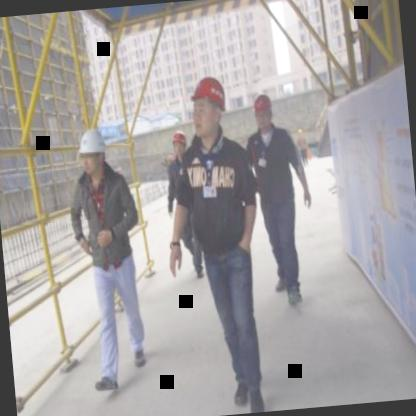helmet: (185, 66, 233, 144), (74, 126, 110, 180), (250, 89, 278, 134), (171, 124, 190, 160)
